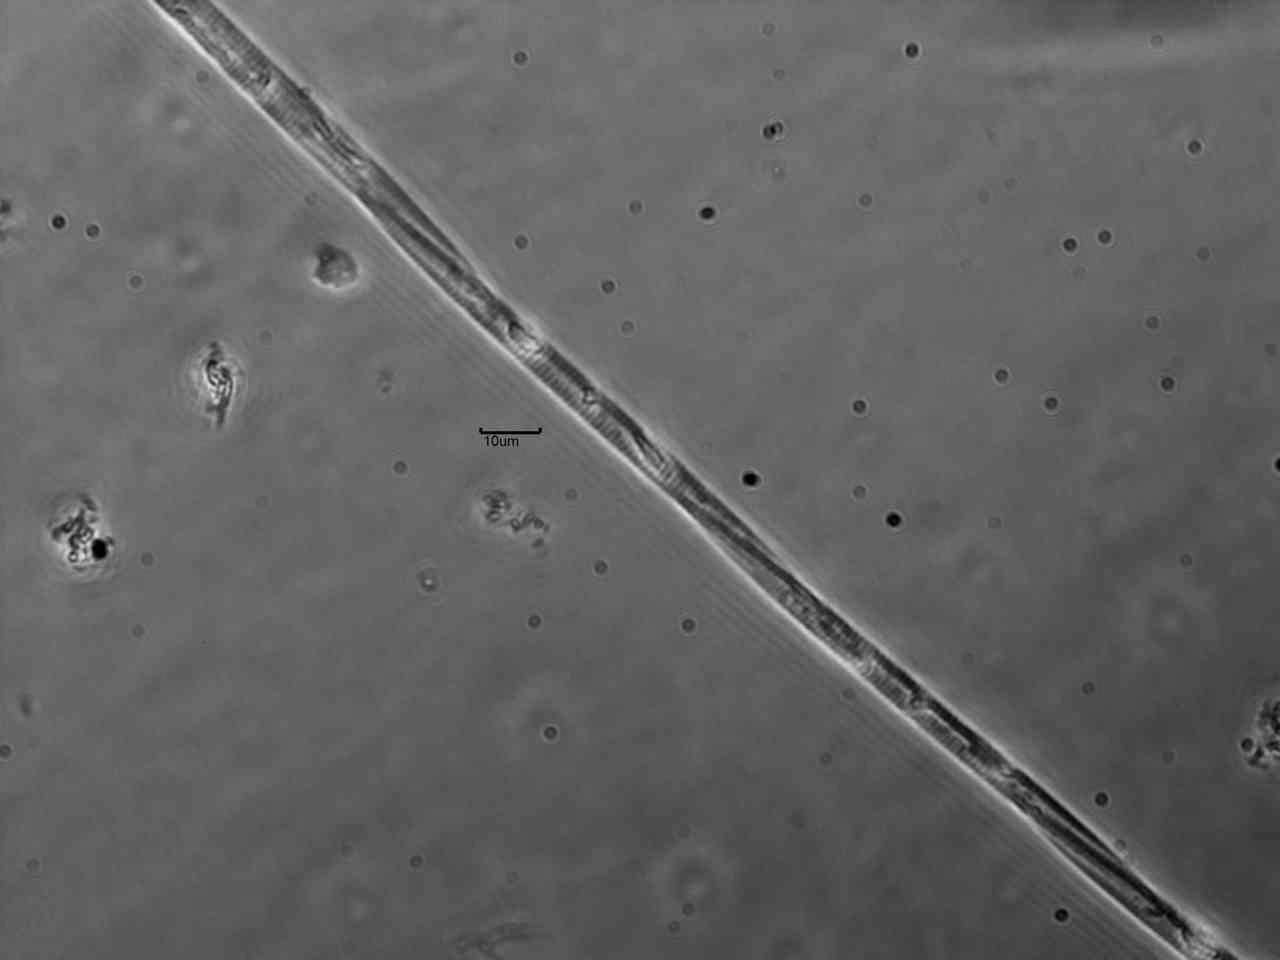trichodesmium_erythraeum: (155, 2, 1245, 959)
